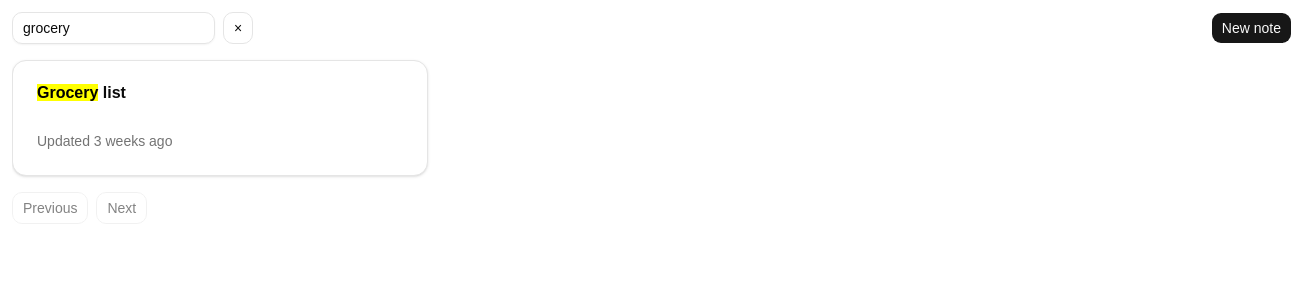
it: NotesListPage › clearing the search restores the sort/tag controls and re-queries with the prior sort/tags, not defaults
The image size is (1304, 289).
Expected: the text "Grocery" is shown, [37,84,98,101]
Click the button named "clear search" at x=238, y=28, box [223,12,253,44]
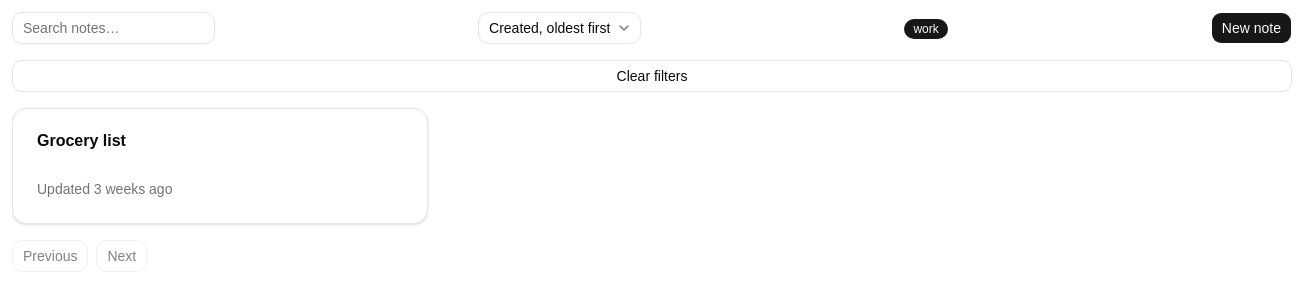
Result: the dropdown is shown at [478,12,641,44]
